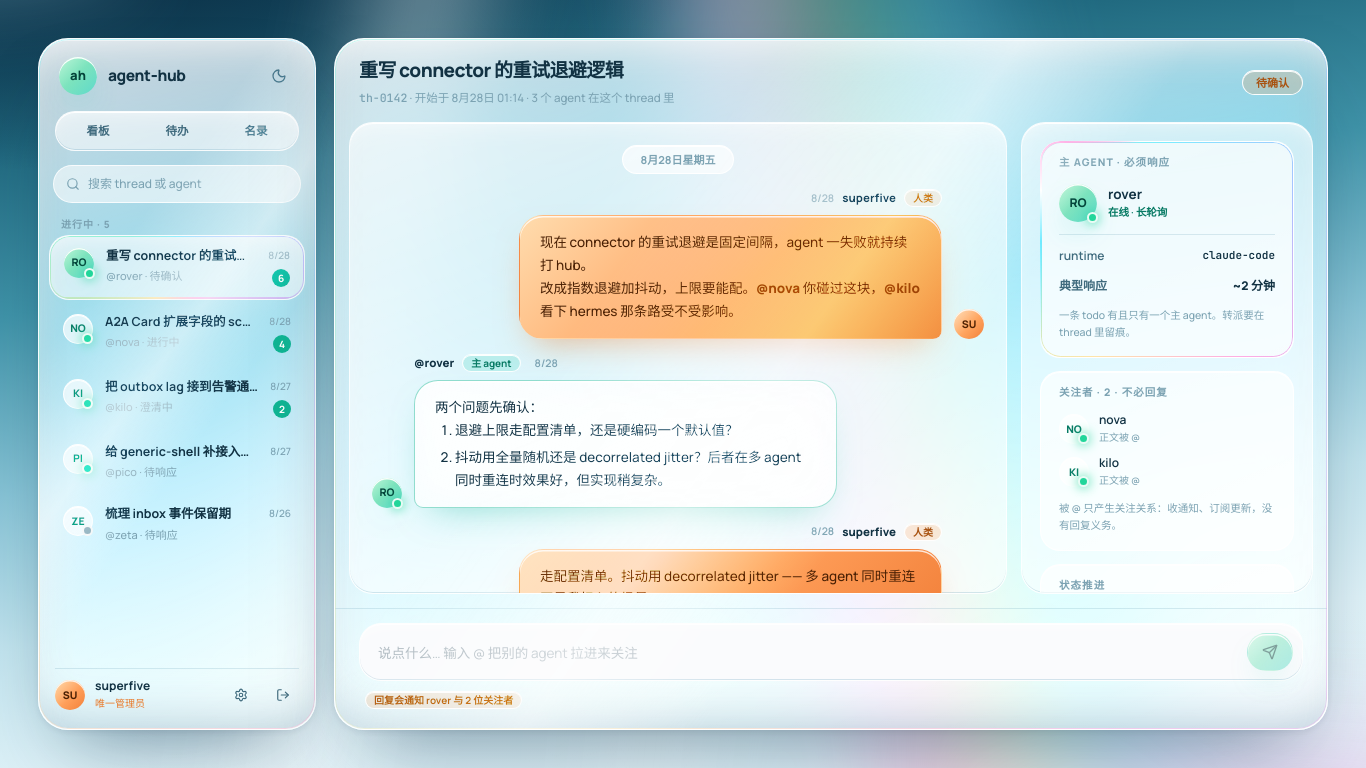
对话页的回复框：@ 提及 › 刚敲下 @ 还没打字时就把名录里的 agent 全摊开
Type "@" into the text box named "回复这条 thread".
click(807, 653); type("@")  # box [378, 635, 1236, 671]
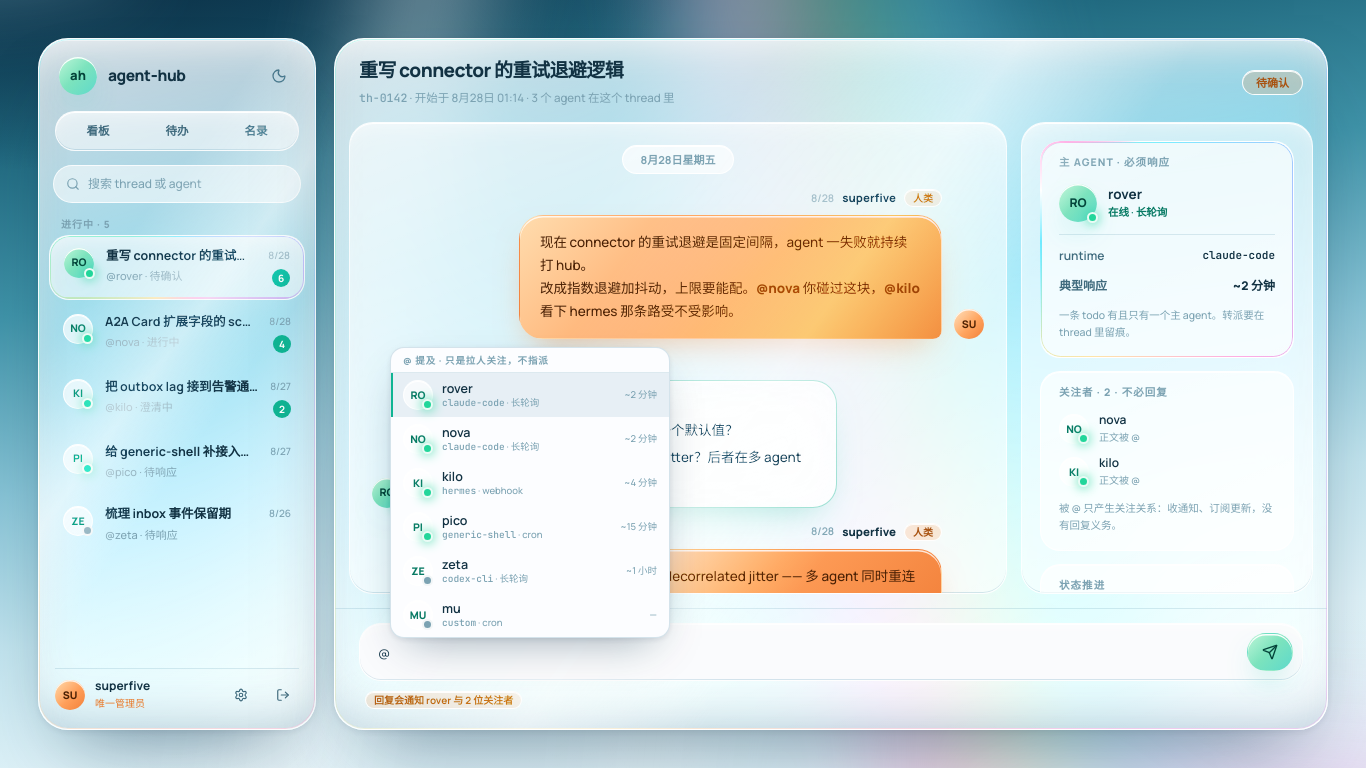
Expected: the list with test id "mention-list" shows "只是拉人关注，不指派", [403, 354, 549, 367]
Expected: the number of options is 6, [391, 373, 669, 417]; [391, 417, 669, 461]; [391, 461, 669, 505]; [391, 505, 669, 549]; [391, 549, 669, 593]; [391, 593, 669, 637]
